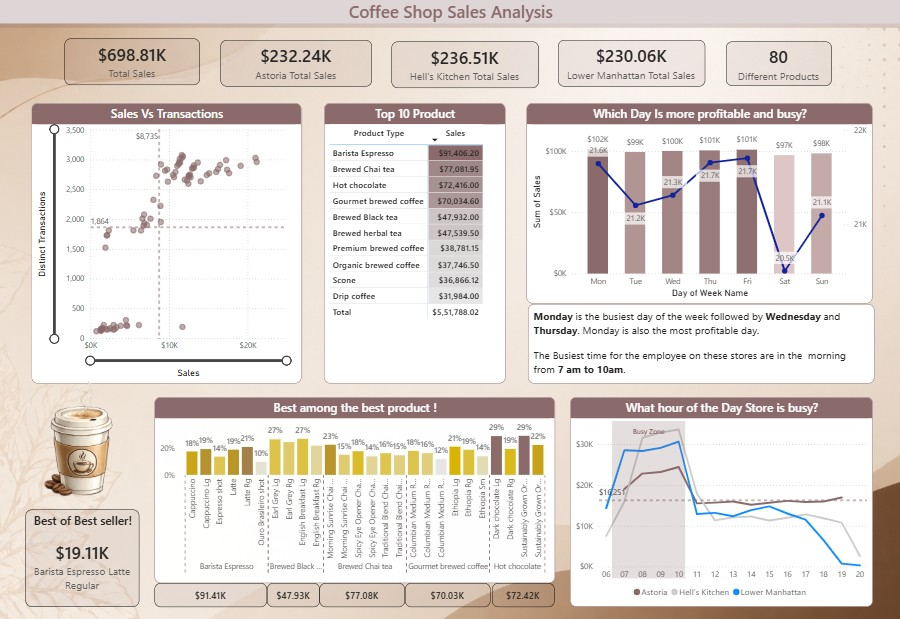

Layout of this report page (visuals, bound fields, positions):
{"tool":"powerbi","page":{"name":"Page 1","canvas":[1430,1070],"ordinal":0},"visuals":[{"type":"textbox","box":[0,16.5,1430,49.6],"z":0},{"type":"cardVisual","fields":{"Data":["Sum(Transactions.Sales)"]},"box":[106.8,83.1,213.5,73.4],"z":1000},{"type":"cardVisual","fields":{"Data":["Count(Transactions.product_detail)"]},"box":[1147.7,88.1,166.8,70.1],"z":2000},{"type":"cardVisual","fields":{"Data":["Transactions.Astoria Total Sales"]},"box":[351.6,85.6,238.5,73.4],"z":3000},{"type":"cardVisual","fields":{"Data":["Transactions.Hells Kitchen Total Sales"]},"box":[621.4,86.8,231.9,73.4],"z":4000},{"type":"cardVisual","fields":{"Data":["Transactions.Lower Manhattan Total Sales"]},"box":[884.6,84.3,231.9,73.4],"z":5000},{"type":"pivotTable","title":"Top 10 Product","fields":{"Rows":["Transactions.product_type"],"Values":["Sum(Transactions.Sales)"]},"box":[515.3,184.4,286,442],"z":6000},{"type":"lineStackedColumnComboChart","title":"Which Day Is more profitable and busy?","fields":{"Category":["Transactions.Day of Week Name"],"Y":["Sum(Transactions.Sales)"],"Y2":["Count(Transactions.transaction_id)"]},"box":[834.3,183.6,545.5,316.2],"z":7000},{"type":"scatterChart","title":"Sales Vs Transactions","fields":{"X":["Sum(Transactions.Sales)"],"Y":["Count(Transactions.transaction_id)"],"Category":["Transactions.product_detail"]},"box":[54.4,184.4,425.5,442],"z":8000},{"type":"clusteredColumnChart","title":"Best among the best product !","fields":{"Category":["Transactions.product_type","Transactions.product_detail"],"Y":["Transactions.% Sales product type"]},"box":[248.2,647.7,631.1,293],"z":9000,"group":"g3"},{"type":"group","id":"g1","title":"Group 1","box":[903,647.7,477.5,330.9],"z":10000},{"type":"group","id":"g2","title":"Group 3","box":[903,647.7,477.5,330.9],"z":10008,"group":"g1"},{"type":"lineChart","title":"What hour of the Day Store is busy?","fields":{"Y":["Sum(Transactions.Sales)"],"Category":["Transactions.Time_Hour"],"Series":["Transactions.store_location"]},"box":[903,647.7,477.5,330.9],"z":11000,"group":"g2"},{"type":"cardVisual","fields":{"Data":["Sum(Transactions.Sales)"]},"box":[248.2,940.4,177.7,38.2],"z":11000,"group":"g3"},{"type":"textbox","box":[970.2,684.7,115.3,248.2],"z":11500,"group":"g2"},{"type":"cardVisual","fields":{"Data":["Sum(Transactions.Sales)"]},"box":[425.9,940.4,83.2,38.2],"z":12000,"group":"g3"},{"type":"cardVisual","fields":{"Data":["Sum(Transactions.Sales)"]},"box":[509.1,940.4,134.9,38.2],"z":13000,"group":"g3"},{"type":"cardVisual","fields":{"Data":["Sum(Transactions.Sales)"]},"box":[644,940.4,134.9,38.2],"z":14000,"group":"g3"},{"type":"cardVisual","fields":{"Data":["Sum(Transactions.Sales)"]},"box":[779,940.4,99,38.2],"z":15000,"group":"g3"},{"type":"textbox","box":[836.8,501.1,546,125.3],"z":16000},{"type":"group","id":"g3","title":"Group 2","box":[248.2,647.7,631.1,330.9],"z":16001},{"type":"image","box":[54.4,565,158.4,297.8],"z":16002},{"type":"cardVisual","title":"Best of Best seller!","fields":{"Data":["Sum(Transactions.Sales)"]},"box":[44.9,825,179.7,153.6],"z":16003}]}

Visuals, with their boxes on the page's 1430x1070 design canvas (x1, y1, x2, y2). These are canvas units, not pixel positions in the 900x619 screenshot, which may show the page scaled, cropped or inside an application window:
textbox: select_region(0, 16, 1430, 66)
cardVisual - Sum(Transactions.Sales): select_region(107, 83, 320, 156)
cardVisual - Count(Transactions.product_detail): select_region(1148, 88, 1314, 158)
cardVisual - Transactions.Astoria Total Sales: select_region(352, 86, 590, 159)
cardVisual - Transactions.Hells Kitchen Total Sales: select_region(621, 87, 853, 160)
cardVisual - Transactions.Lower Manhattan Total Sales: select_region(885, 84, 1116, 158)
"Top 10 Product" pivotTable: select_region(515, 184, 801, 626)
"Which Day Is more profitable and busy?" lineStackedColumnComboChart: select_region(834, 184, 1380, 500)
"Sales Vs Transactions" scatterChart: select_region(54, 184, 480, 626)
"Best among the best product !" clusteredColumnChart: select_region(248, 648, 879, 941)
"Group 1" group: select_region(903, 648, 1380, 979)
"Group 3" group: select_region(903, 648, 1380, 979)
"What hour of the Day Store is busy?" lineChart: select_region(903, 648, 1380, 979)
cardVisual - Sum(Transactions.Sales): select_region(248, 940, 426, 979)
textbox: select_region(970, 685, 1086, 933)
cardVisual - Sum(Transactions.Sales): select_region(426, 940, 509, 979)
cardVisual - Sum(Transactions.Sales): select_region(509, 940, 644, 979)
cardVisual - Sum(Transactions.Sales): select_region(644, 940, 779, 979)
cardVisual - Sum(Transactions.Sales): select_region(779, 940, 878, 979)
textbox: select_region(837, 501, 1383, 626)
"Group 2" group: select_region(248, 648, 879, 979)
image: select_region(54, 565, 213, 863)
"Best of Best seller!" cardVisual: select_region(45, 825, 225, 979)
